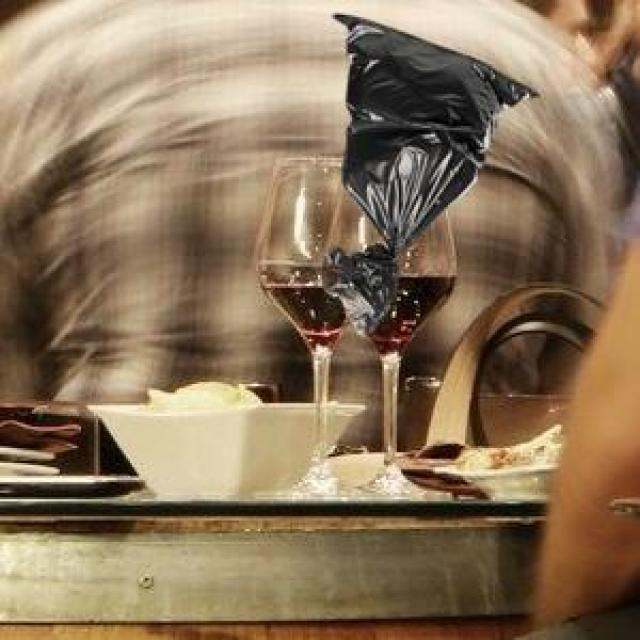miscellaneous trash: (318, 11, 533, 333)
